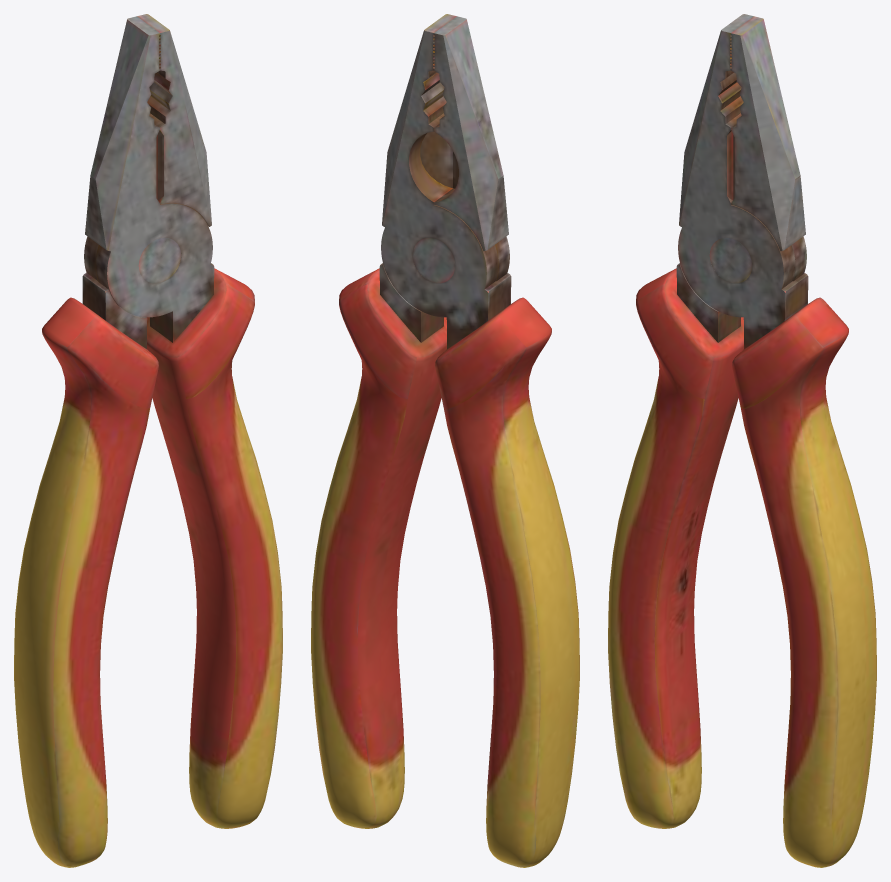
The model's file is pliers.glb.
The picture shows the model from 3 angles, left to right: view 1: azimuth 30°, elevation 25°; view 2: azimuth 150°, elevation 25°; view 3: azimuth 330°, elevation 25°; orthographic projection.
Parts seen in each view (by area): view 1: pliers_b, pliers_a, pliers_pin; view 2: pliers_a, pliers_b, pliers_pin; view 3: pliers_b, pliers_a, pliers_pin.
Part boxes in pixels (x1,y1,x2,y2): pliers_b: (85,16,282,828); pliers_a: (14,14,211,867); pliers_pin: (138,237,181,283); pliers_a: (381,14,579,867); pliers_b: (311,16,509,828); pliers_pin: (412,237,455,283); pliers_b: (678,14,876,867); pliers_a: (608,16,806,828); pliers_pin: (709,237,752,283).
Bounding box in the file's own units: 0.0553 × 0.1798 × 0.018.
1 material, 1 textured.
